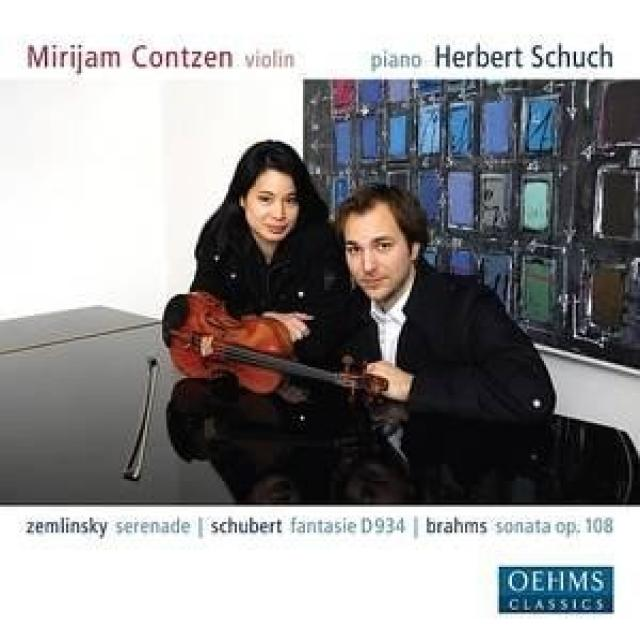violin: (158, 288, 391, 401)
